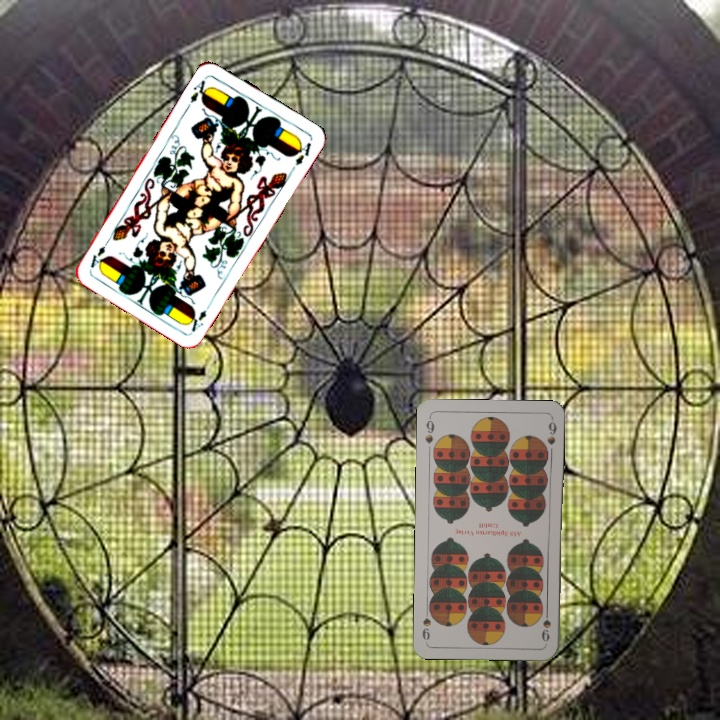EA: (184, 298, 214, 335), (186, 76, 213, 106)
S9: (538, 604, 554, 644), (421, 414, 436, 446)
